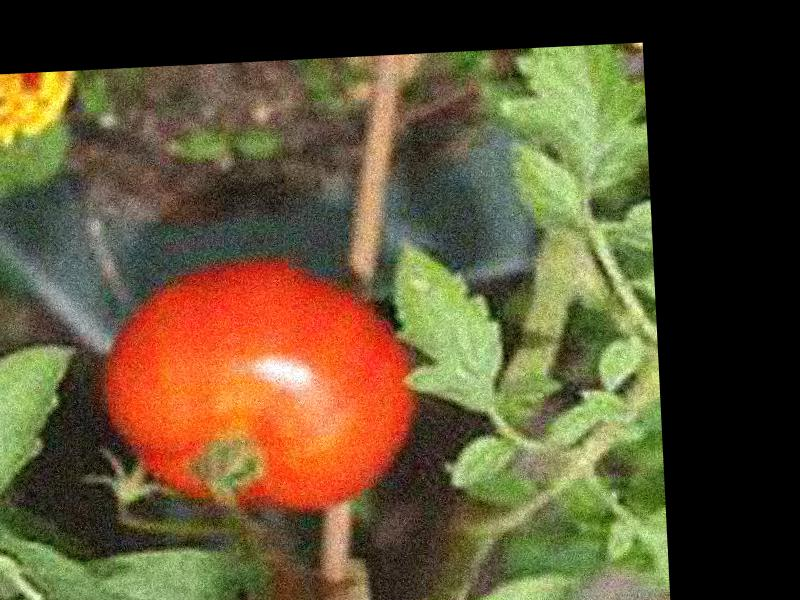Tomato: (94, 256, 425, 522)
